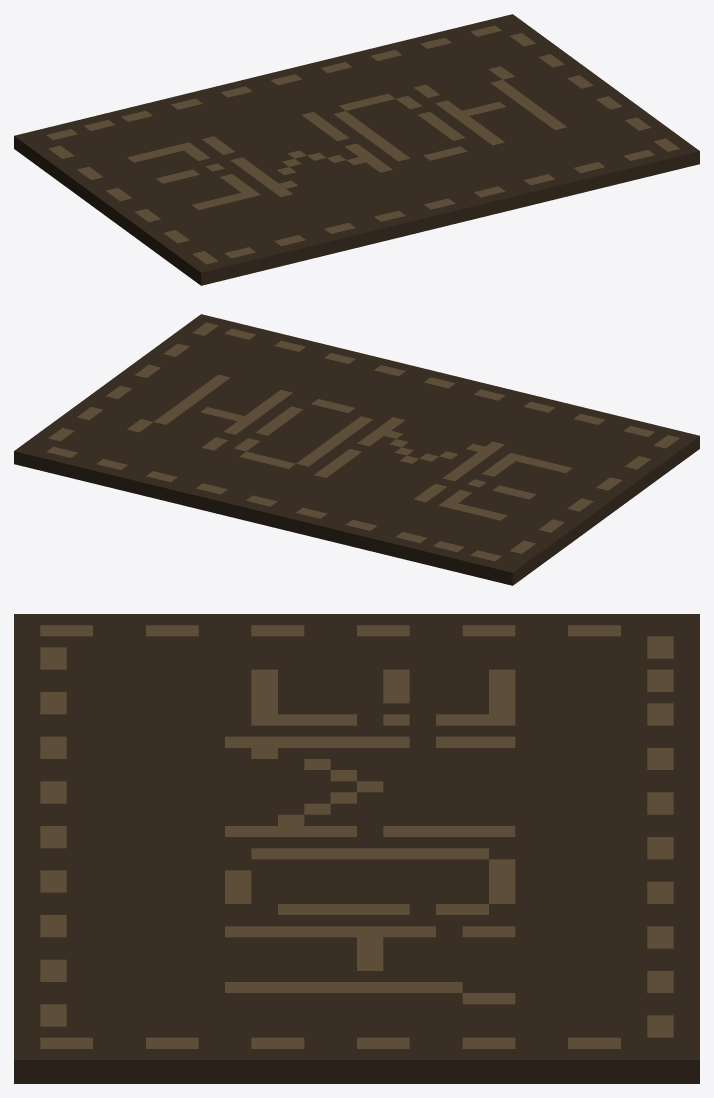
Rendered from doorcarpet.obj.
3 renders of one model, top to bottom at view 1: azimuth 30°, elevation 25°; view 2: azimuth 150°, elevation 25°; view 3: azimuth 270°, elevation 25°, orthographic. The views are drawn at different scales.
Size of the model in its own units: 4 by 0.1 by 2.6.
1 material, 1 textured.
